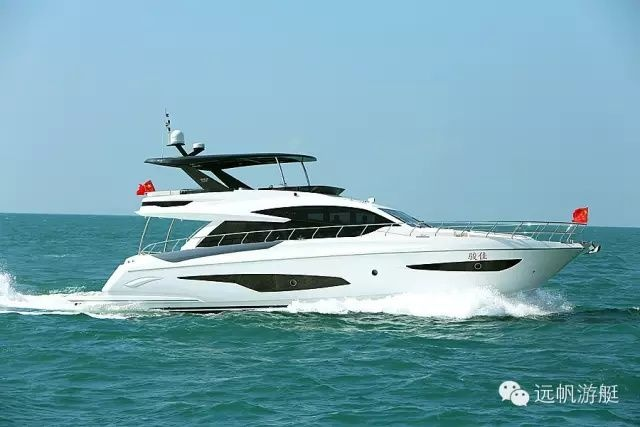yacht: (69, 113, 588, 316)
